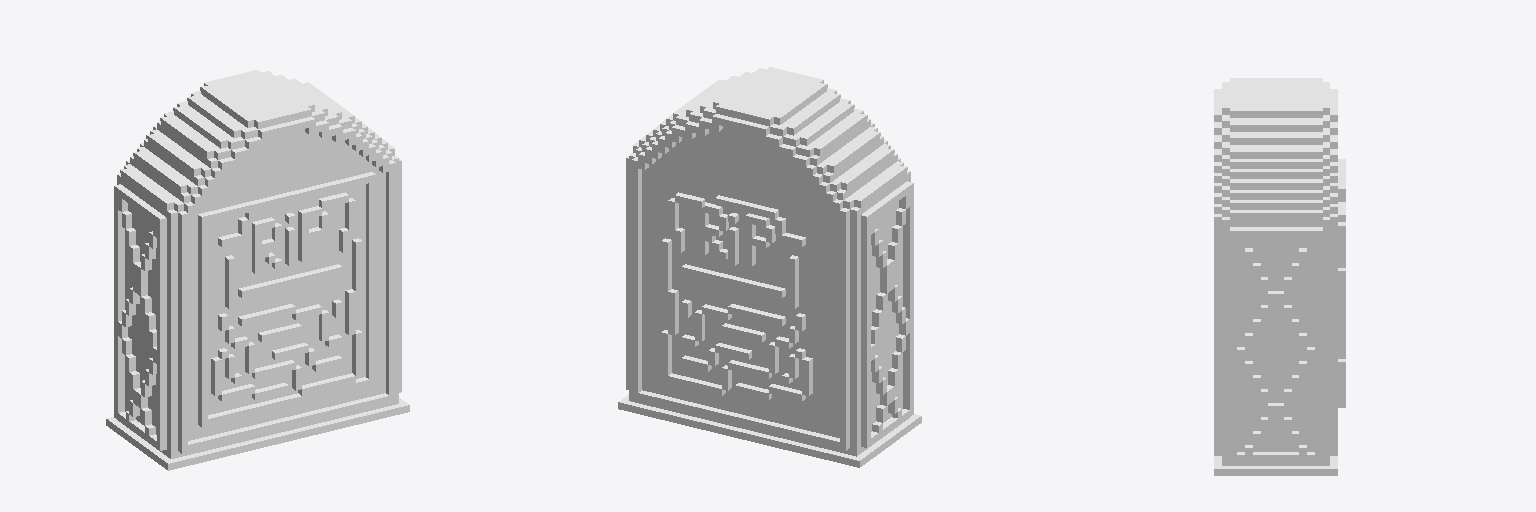
File: nadgrobie.obj
3 views of the same model, side by side, from view 1: azimuth 30°, elevation 25°; view 2: azimuth 150°, elevation 25°; view 3: azimuth 270°, elevation 25° (orthographic).
Visible parts, largest first — view 1: object 1; view 2: object 1; view 3: object 1.
Boxes of the visible parts, x1=… form: object 1: x1=106, y1=70, x2=409, y2=470; object 1: x1=618, y1=67, x2=921, y2=467; object 1: x1=1214, y1=78, x2=1345, y2=475.
Bounding box in the file's own units: 3.6 × 4.6 × 1.7.